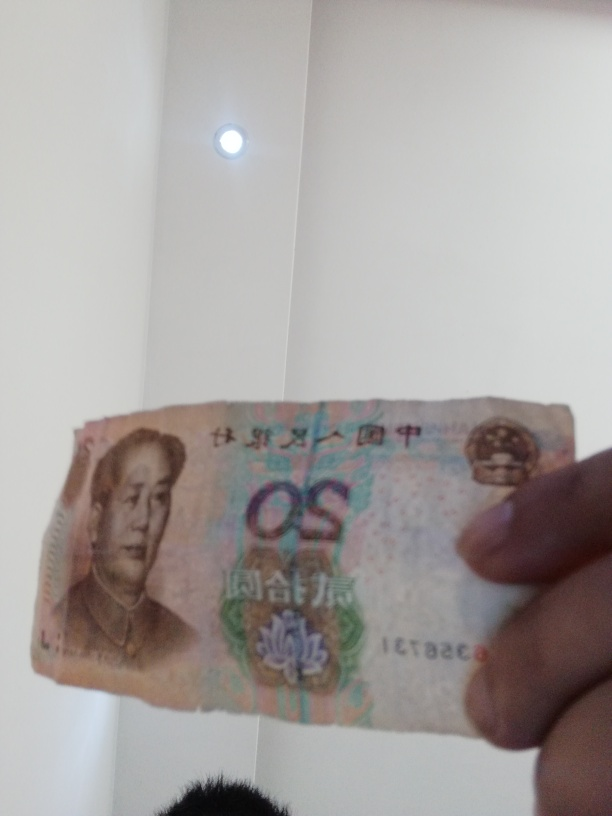rmb: (36, 392, 582, 766)
